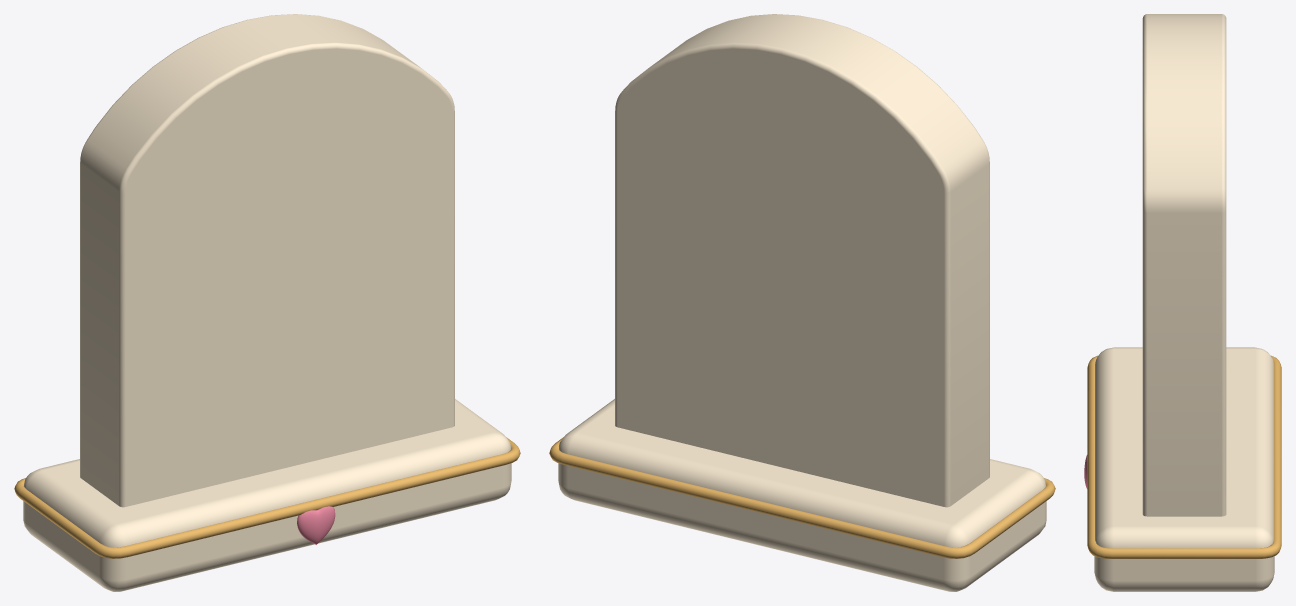
Rendered from stone-tablet.glb.
3 renders of one model, left to right at view 1: azimuth 30°, elevation 25°; view 2: azimuth 150°, elevation 25°; view 3: azimuth 270°, elevation 25°, orthographic. The views are drawn at different scales.
Visible parts, largest first — view 1: StoneTablet; view 2: StoneTablet; view 3: StoneTablet.
Boxes of the visible parts, x1,y1,x2,y2 form: StoneTablet: [14, 14, 520, 591]; StoneTablet: [549, 14, 1055, 591]; StoneTablet: [1084, 14, 1281, 591].
Bounding box in the file's own units: 1.46 × 1.6 × 0.6137.
